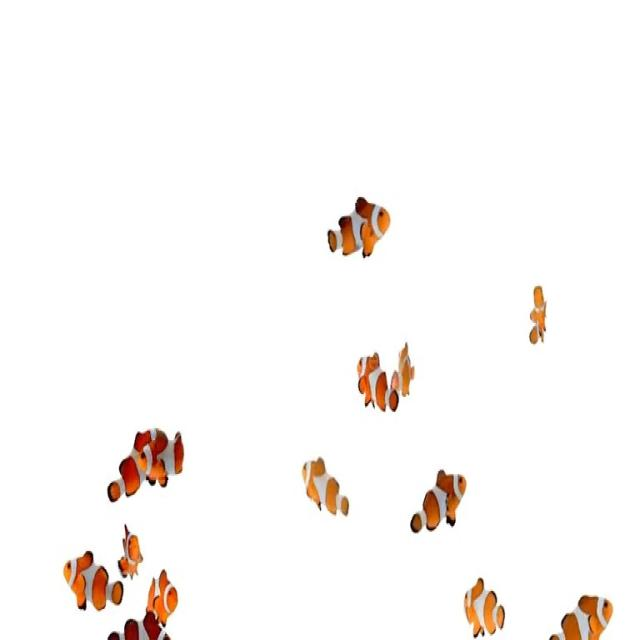fish: (324, 185, 391, 276), (407, 467, 471, 541), (348, 336, 402, 419), (63, 543, 125, 615), (108, 424, 156, 511), (300, 450, 352, 530), (548, 587, 620, 640), (458, 564, 508, 640), (138, 427, 198, 490), (525, 269, 552, 361), (389, 326, 416, 403), (115, 521, 152, 577), (145, 567, 182, 623)
